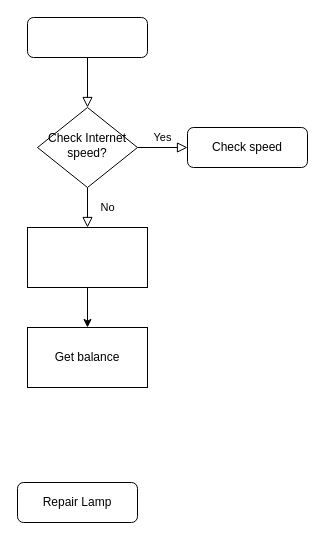
Image size: 325x540. Some labels were removed from this diagram. Each missing label, with the box of its shape:
__main__: (26, 16, 148, 58)
Connection to Client Interface: (26, 226, 148, 288)
